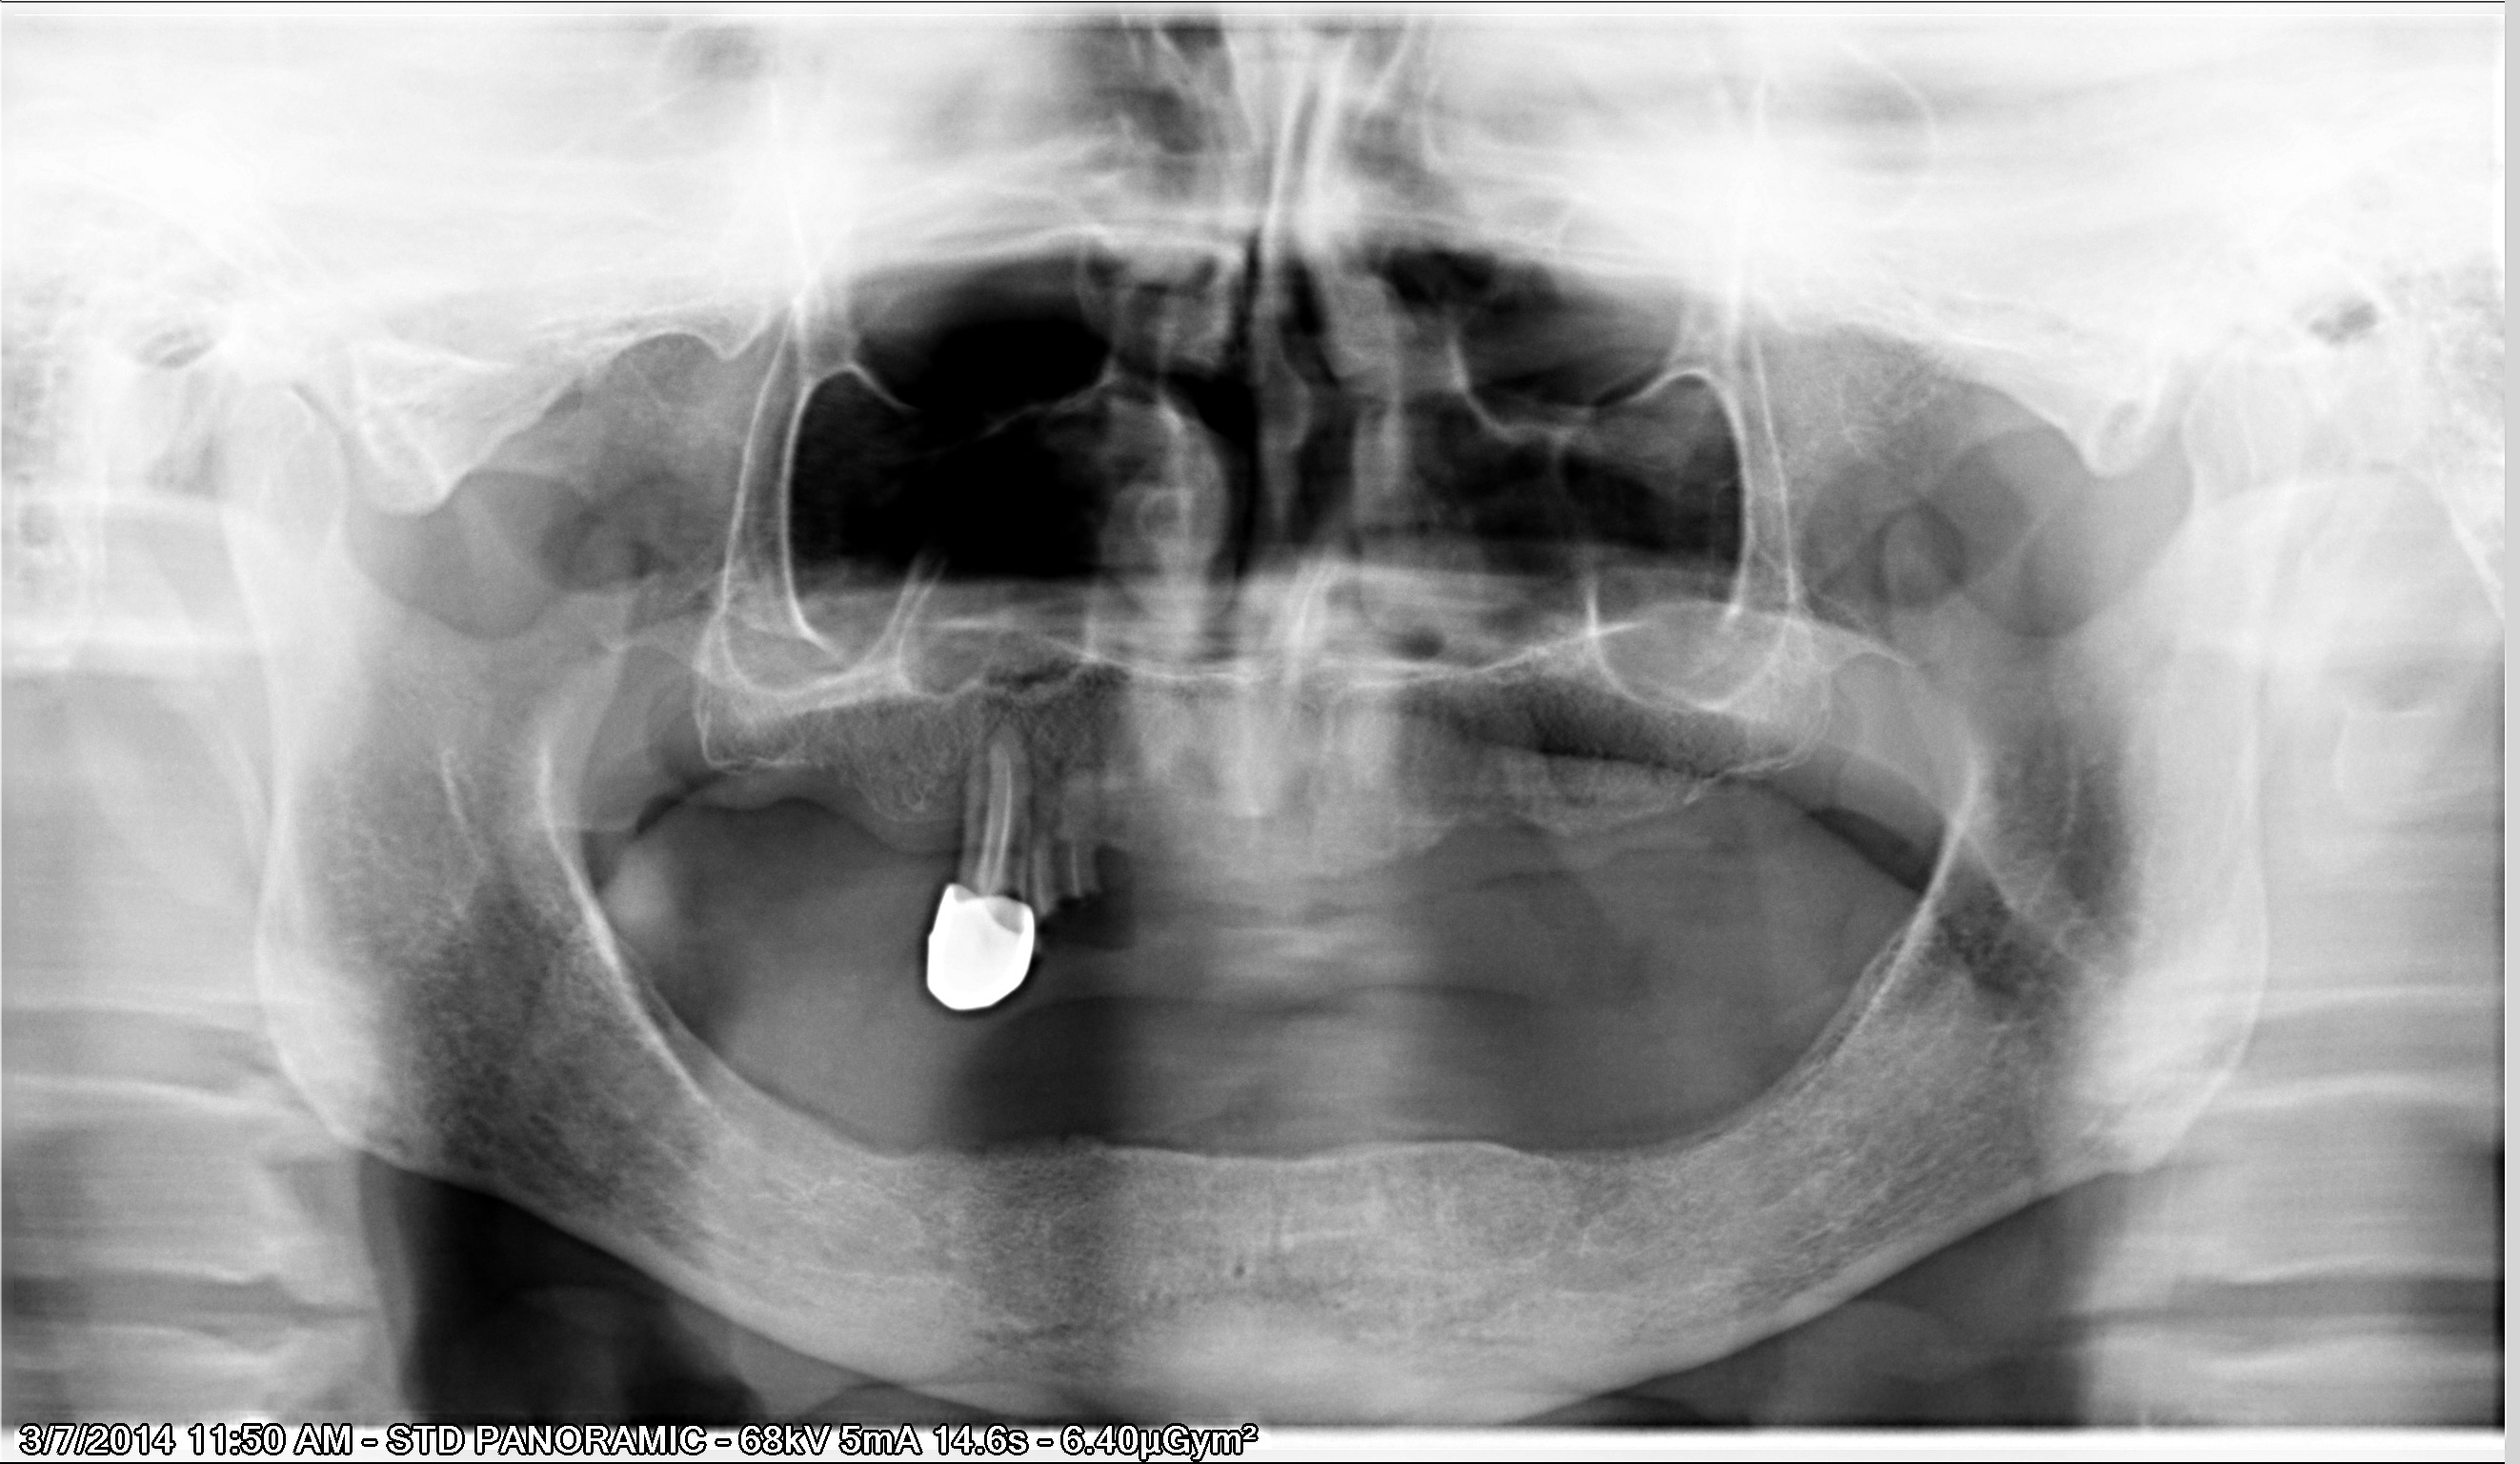END: (472, 310, 1483, 1204)
PRR: (410, 380, 1445, 1389)
ROT: (509, 272, 1610, 1168)
